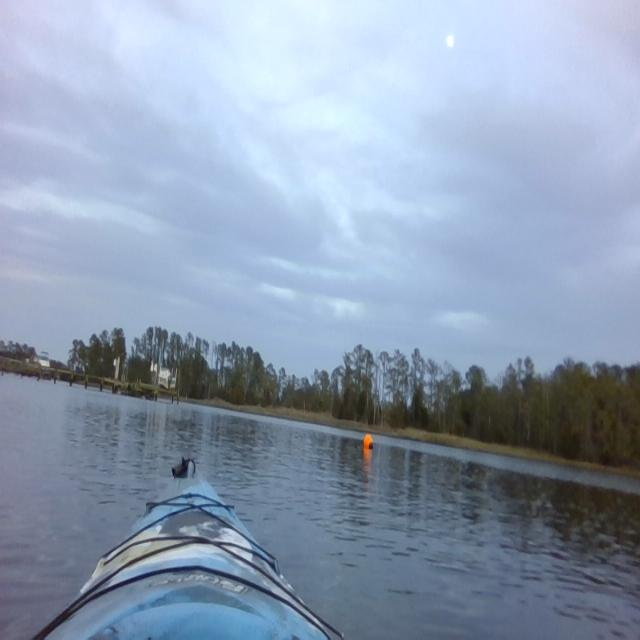Buoy: (361, 431, 375, 454)
